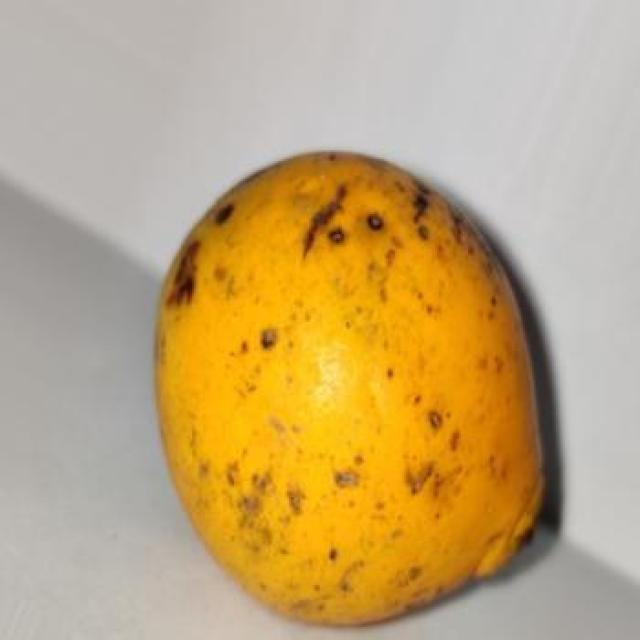good: (152, 152, 549, 629)
